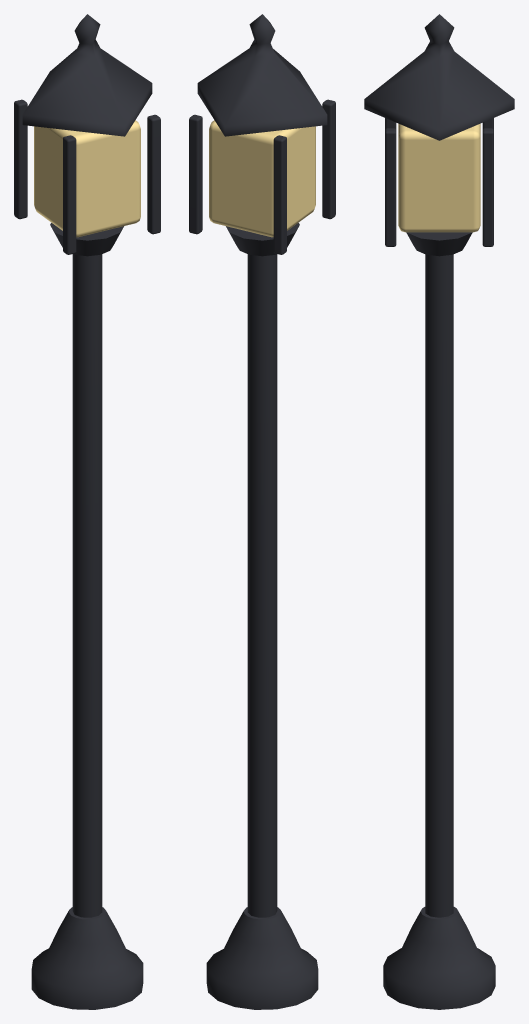
The model's file is furn_dp_lamp.glb.
3 views of the same model, side by side, from view 1: azimuth 30°, elevation 25°; view 2: azimuth 150°, elevation 25°; view 3: azimuth 270°, elevation 25° (orthographic).
Visible parts, largest first — view 1: furn_dp_lamp_main, furn_dp_lamp_glow; view 2: furn_dp_lamp_main, furn_dp_lamp_glow; view 3: furn_dp_lamp_main, furn_dp_lamp_glow.
Part boxes in pixels (x1,y1,x2,y2): furn_dp_lamp_main: (14,14,160,1009); furn_dp_lamp_glow: (34,120,140,237); furn_dp_lamp_main: (189,14,335,1009); furn_dp_lamp_glow: (209,120,315,237); furn_dp_lamp_main: (364,14,514,1009); furn_dp_lamp_glow: (398,123,480,232).
Size of the model in its own units: 0.4 by 2.86 by 0.4.
